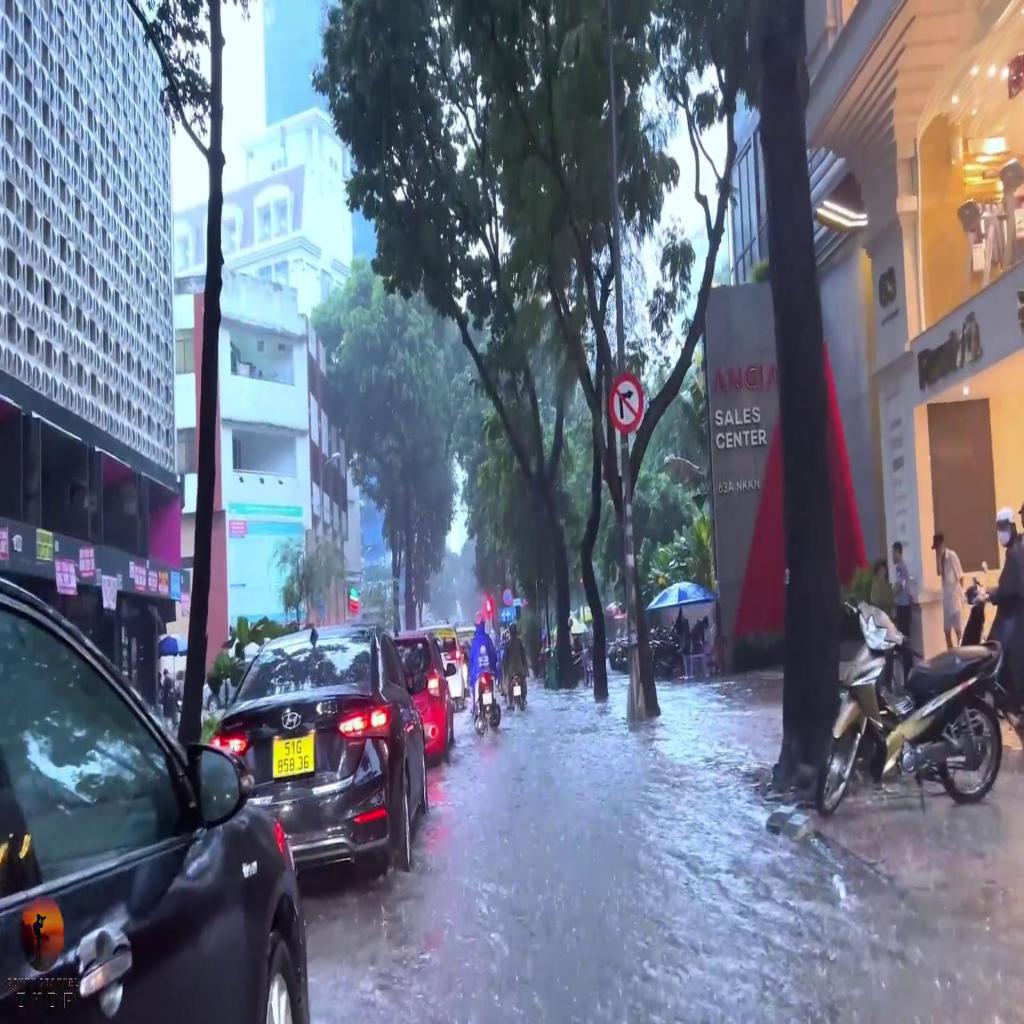cam_re_phai: (609, 374, 643, 434)
